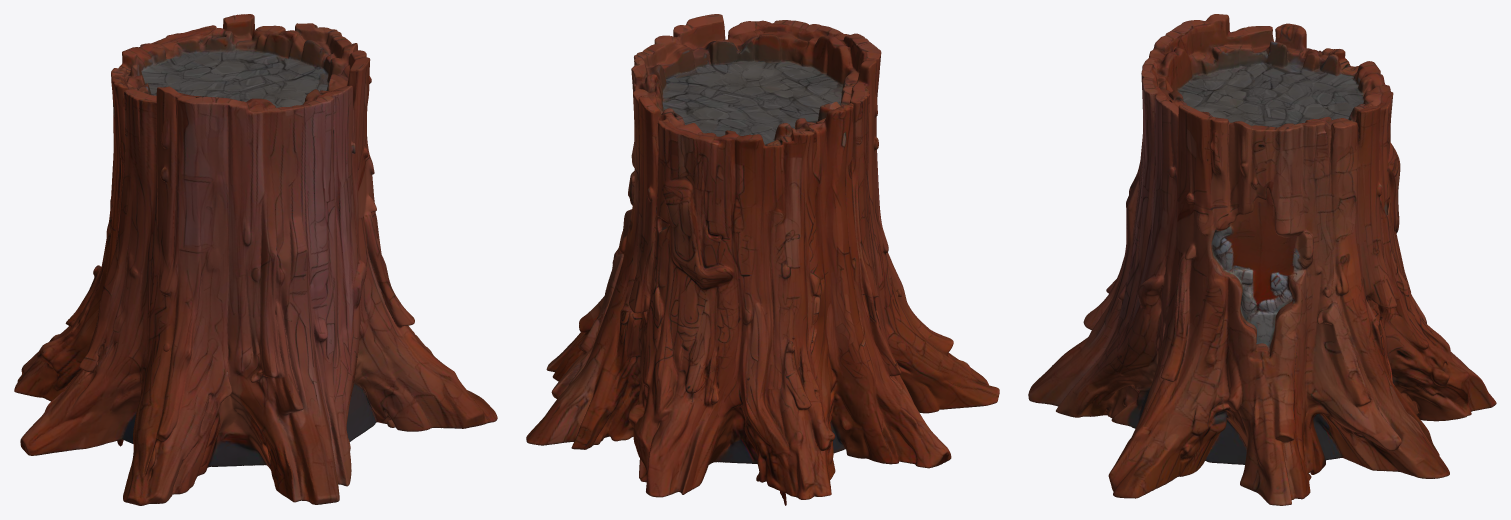
Rendered from redwood_trunk_hero_c.glb.
3 views of the same model, side by side, from view 1: azimuth 30°, elevation 25°; view 2: azimuth 150°, elevation 25°; view 3: azimuth 270°, elevation 25° (orthographic). The views are drawn at different scales.
Parts seen in each view (by area): view 1: tripo_node_6e88d5fe-864f-4319-aeb7-acd4a09c26ad; view 2: tripo_node_6e88d5fe-864f-4319-aeb7-acd4a09c26ad; view 3: tripo_node_6e88d5fe-864f-4319-aeb7-acd4a09c26ad.
Part boxes in pixels (x1,y1,x2,y2): tripo_node_6e88d5fe-864f-4319-aeb7-acd4a09c26ad: [14, 14, 497, 505]; tripo_node_6e88d5fe-864f-4319-aeb7-acd4a09c26ad: [526, 14, 999, 505]; tripo_node_6e88d5fe-864f-4319-aeb7-acd4a09c26ad: [1028, 14, 1496, 505].
Bounding box in the file's own units: 0.9785 × 0.941 × 1.
Materials: 1 (1 with a texture image).
